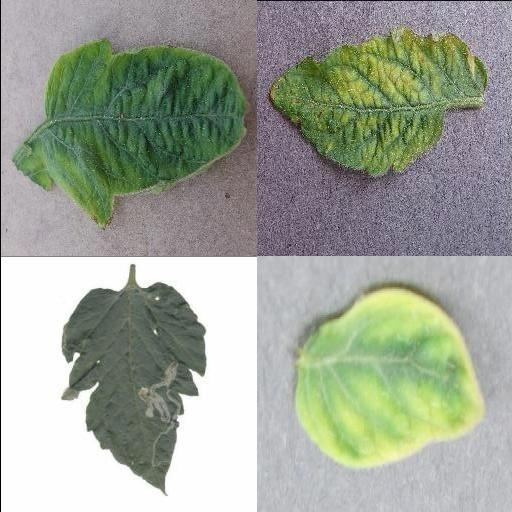Leaf Miner: (58, 281, 206, 495)
Mosaic Virus: (265, 29, 489, 178)
Yellow Leaf Curl Virus: (33, 41, 247, 232), (294, 286, 486, 470)
